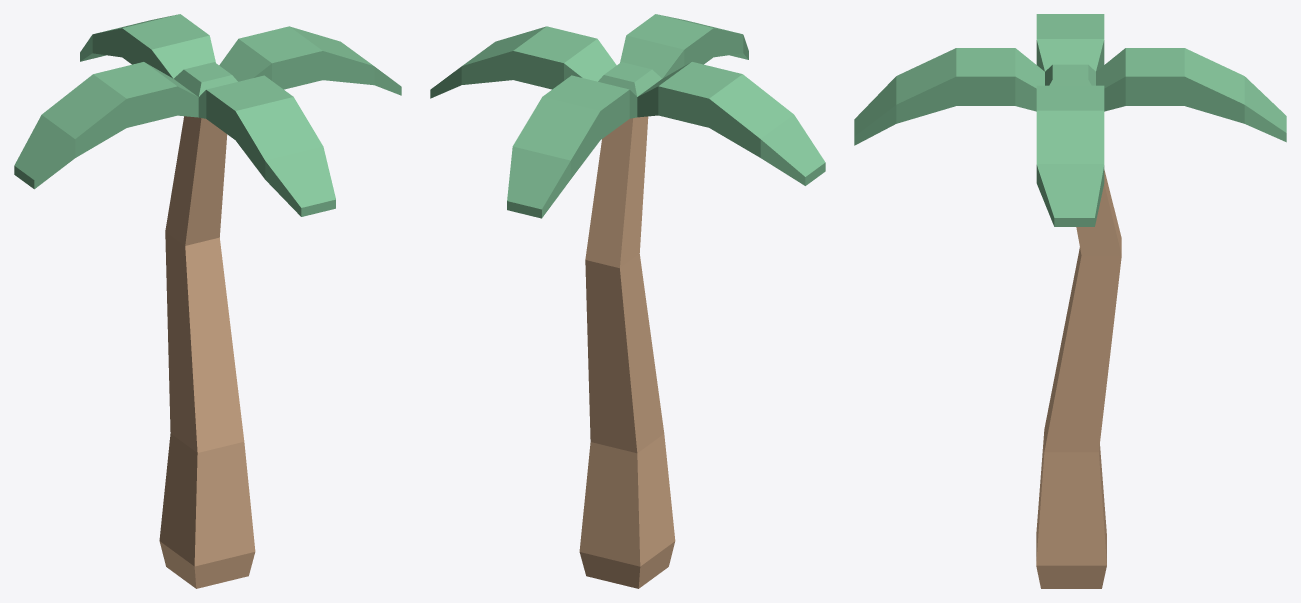
File: palm-long.glb
3 renders of one model, left to right at view 1: azimuth 30°, elevation 25°; view 2: azimuth 150°, elevation 25°; view 3: azimuth 270°, elevation 25°, orthographic.
Visible parts, largest first — view 1: Group 30, Group 28; view 2: Group 30, Group 28; view 3: Group 30, Group 28.
Boxes of the visible parts, box(x1,y1,x2,y2) form: Group 30: box(14, 14, 401, 216); Group 28: box(159, 116, 255, 588); Group 30: box(430, 14, 825, 218); Group 28: box(579, 116, 675, 588); Group 30: box(854, 14, 1286, 226); Group 28: box(1036, 170, 1121, 588).
Size of the model in its own units: 1.54 by 2.02 by 1.54.
